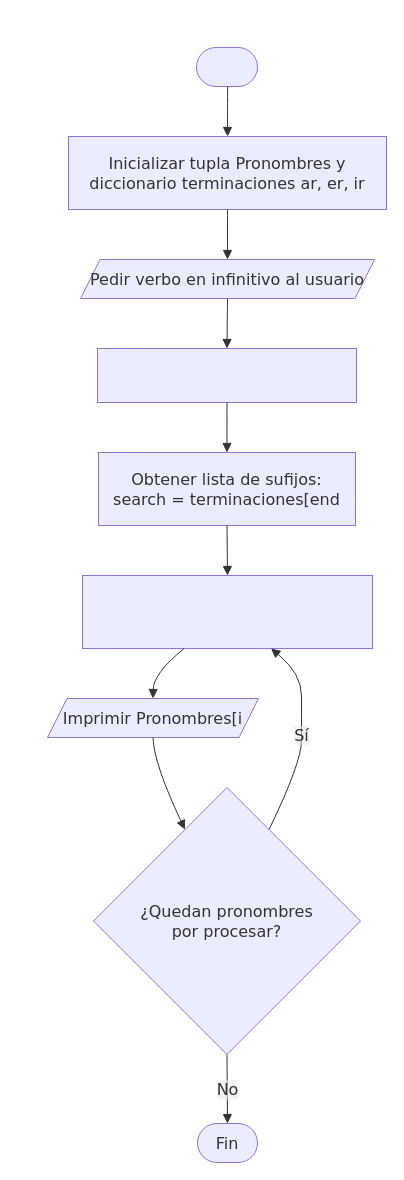
This 404x1180 diagram has some shape labels left out. Here are the shapes that lost their labels. From the top down, the box of each, then its label:
(196, 46, 258, 86): Inicio
(96, 348, 356, 402): Extraer raíz
(82, 574, 372, 648): Iniciar bucle for: recorrer índice i desde 0 hasta 5
